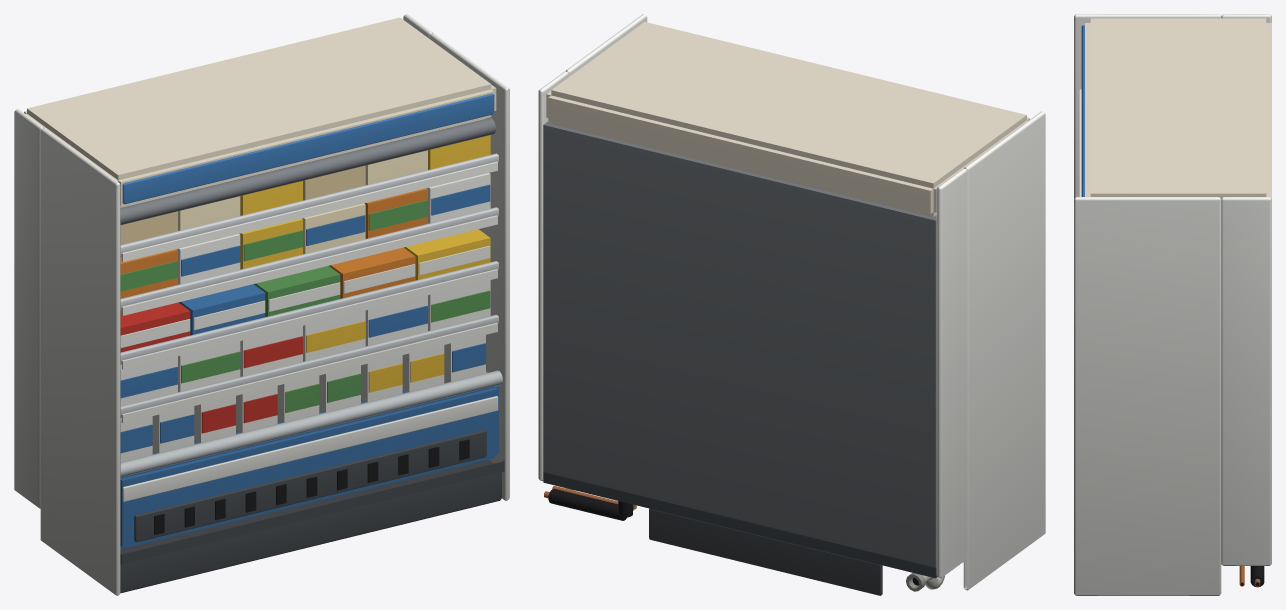
The model's file is Multideck_Open_20_Stocked.glb.
3 renders of one model, left to right at view 1: azimuth 30°, elevation 25°; view 2: azimuth 150°, elevation 25°; view 3: azimuth 270°, elevation 25°, orthographic. The views are drawn at different scales.
Parts seen in each view (by area): view 1: SM_Multideck_Open_20_Stocked; view 2: SM_Multideck_Open_20_Stocked; view 3: SM_Multideck_Open_20_Stocked.
Boxes of the visible parts, bbox=[...] form: SM_Multideck_Open_20_Stocked: bbox=[14, 14, 509, 595]; SM_Multideck_Open_20_Stocked: bbox=[538, 14, 1045, 595]; SM_Multideck_Open_20_Stocked: bbox=[1074, 14, 1271, 595].
Bounding box in the file's own units: 2 × 2 × 0.9.
Materials: 1 (1 with a texture image).
